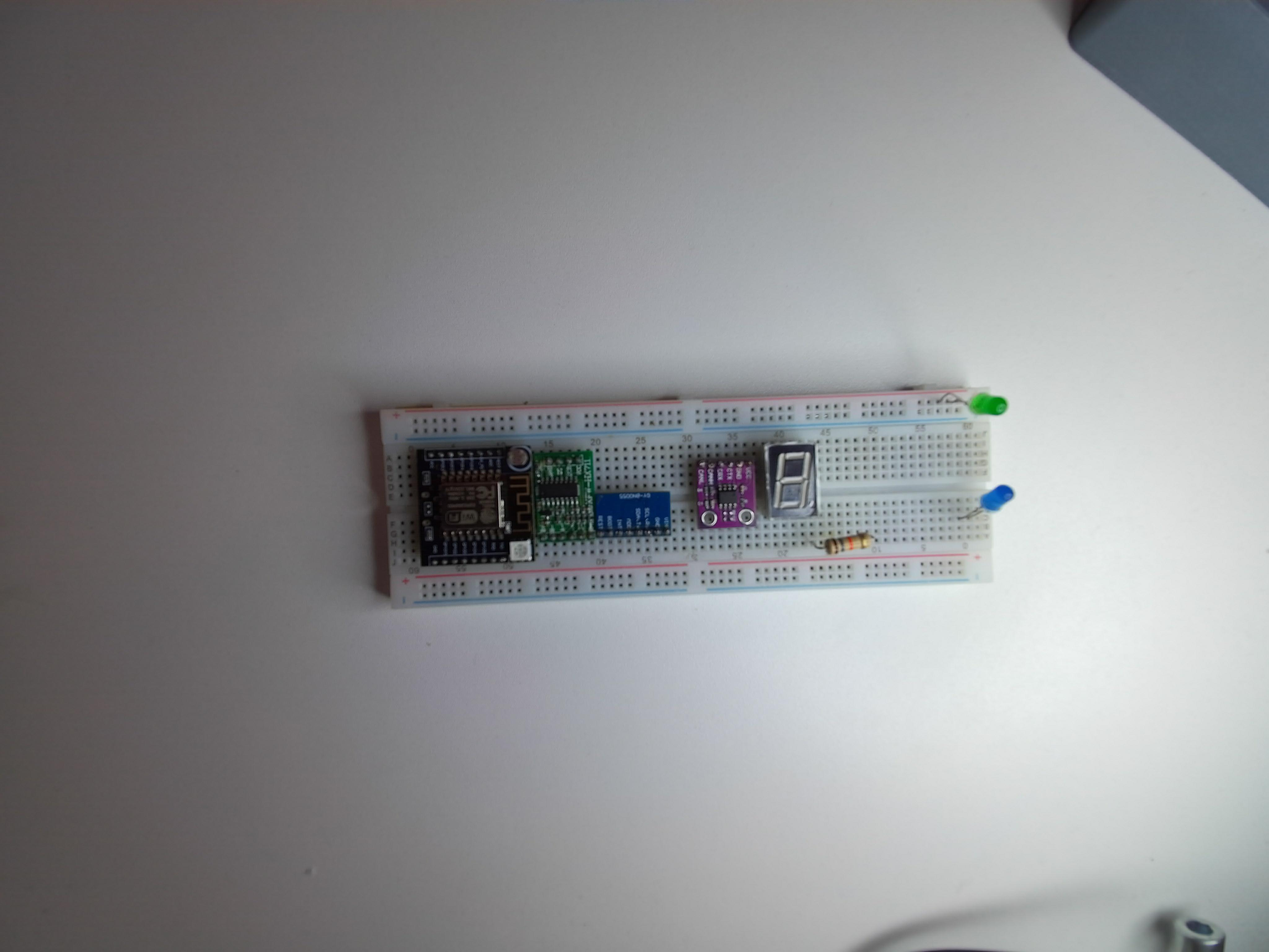base: (357, 391, 1014, 612)
blue-board: (595, 490, 672, 536)
blue-led: (976, 482, 1013, 521)
digit-board: (763, 441, 820, 522)
esp: (412, 442, 536, 572)
green-board: (531, 448, 597, 546)
green-led: (972, 395, 1008, 416)
purple-board: (688, 451, 760, 530)
resistor-big: (821, 529, 873, 566)
